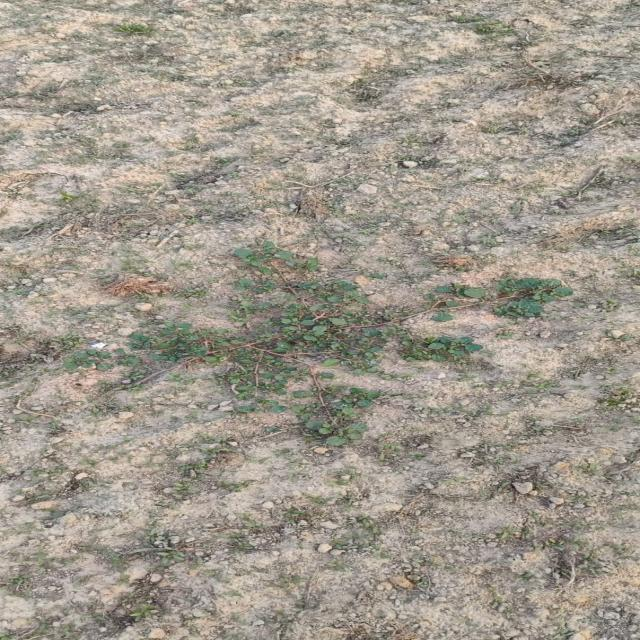plant: (65, 241, 572, 445)
